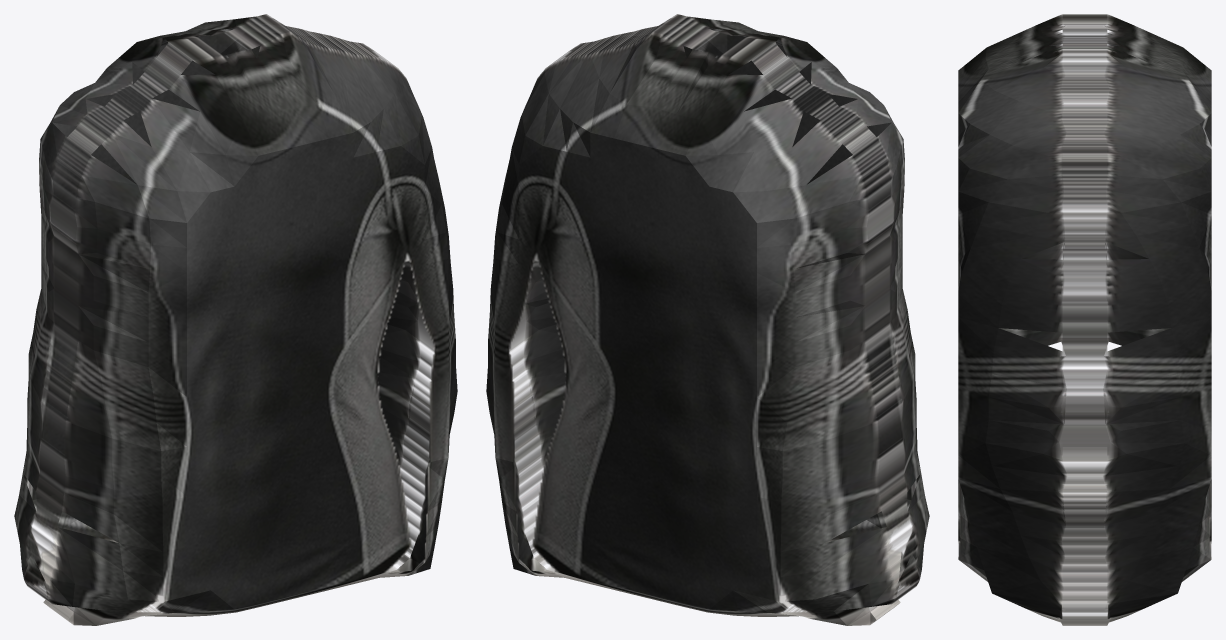
File: rukka-apex-base-layer-037.glb
3 renders of one model, left to right at view 1: azimuth 30°, elevation 25°; view 2: azimuth 150°, elevation 25°; view 3: azimuth 270°, elevation 25°, orthographic. The views are drawn at different scales.
Parts seen in each view (by area): view 1: world; view 2: world; view 3: world.
Part boxes in pixels (x1,y1,x2,y2): world: (14, 14, 457, 625); world: (486, 14, 929, 625); world: (958, 14, 1211, 625).
Bounding box in the file's own units: 0.7353 × 1 × 0.44.
1 material, 1 textured.
